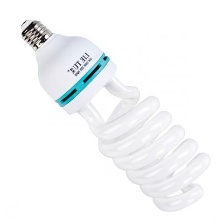light_bulb: (13, 16, 213, 215)
